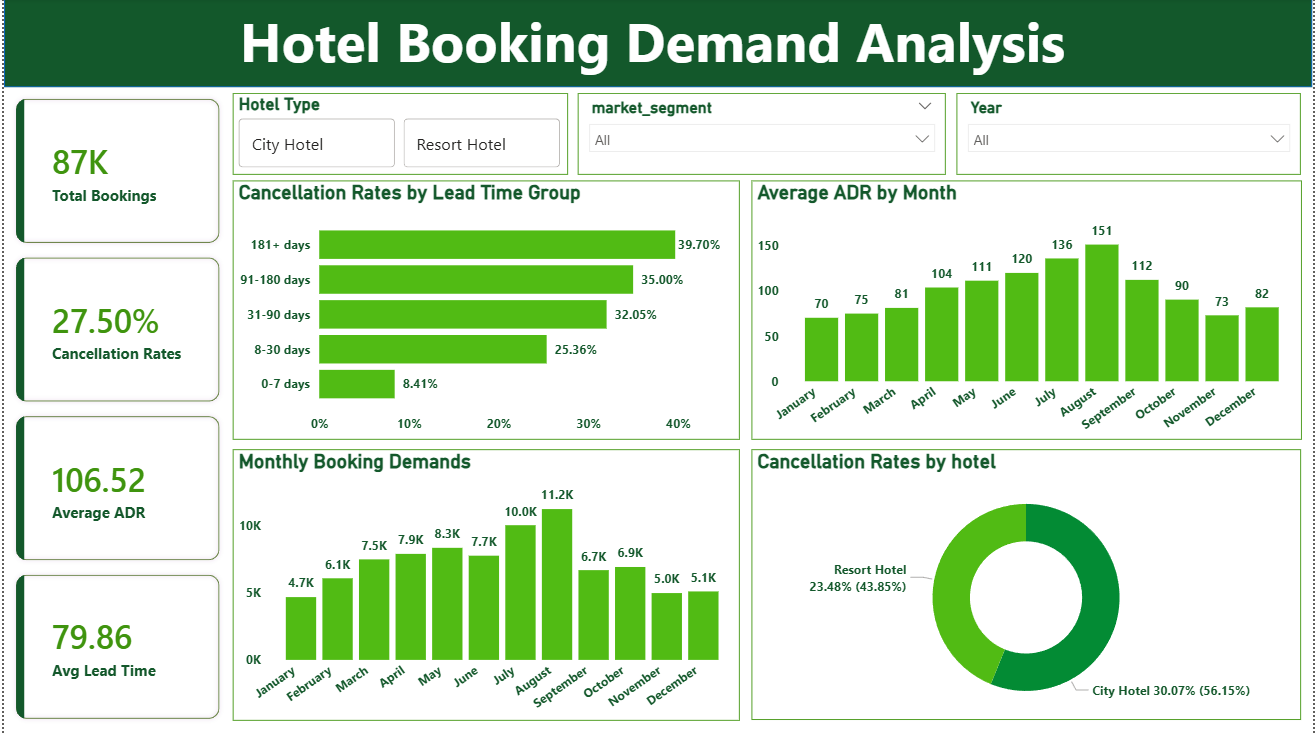

This screenshot's page, from the dashboard's own definition file:
{"tool":"powerbi","page":{"name":"Page 1","canvas":[1280,720],"ordinal":0},"visuals":[{"type":"cardVisual","fields":{"Data":["hotel_bookings_cleaned.Total Bookings","hotel_bookings_cleaned.Cancellation Rates","hotel_bookings_cleaned.Average ADR","hotel_bookings_cleaned.Average Lead Time"]},"box":[0,87.4,223.8,633],"z":0},{"type":"clusteredColumnChart","title":"Monthly Booking Demands","fields":{"Category":["hotel_bookings_cleaned.arrival_date.Variation.Date Hierarchy.Month"],"Y":["hotel_bookings_cleaned.Total Bookings"]},"box":[223.6,441.5,496.3,265.5],"z":1000},{"type":"shape","box":[0,0,1279.7,87.4],"z":2000},{"type":"barChart","fields":{"Category":["hotel_bookings_cleaned.Lead Time Group"],"Y":["hotel_bookings_cleaned.Cancellation Rates"]},"box":[223.6,178.9,496.3,253.9],"z":3000},{"type":"clusteredColumnChart","fields":{"Category":["hotel_bookings_cleaned.arrival_date.Variation.Date Hierarchy.Month"],"Y":["hotel_bookings_cleaned.Average ADR"]},"box":[730.7,179,538.2,253.8],"z":4000},{"type":"donutChart","fields":{"Category":["hotel_bookings_cleaned.hotel"],"Y":["hotel_bookings_cleaned.Cancellation Rates"]},"box":[731,441.4,537.9,265.1],"z":5000},{"type":"advancedSlicerVisual","title":"Hotel Type","fields":{"Values":["hotel_bookings_cleaned.hotel"]},"box":[223.8,93.5,328,79.7],"z":6000},{"type":"slicer","fields":{"Values":["hotel_bookings_cleaned.market_segment"]},"box":[560.9,93.5,360.2,79.7],"z":7000},{"type":"slicer","fields":{"Values":["hotel_bookings_cleaned.arrival_date.Variation.Date Hierarchy.Year"]},"box":[931.8,93.5,337.2,79.7],"z":8000},{"type":"textbox","box":[0,0,1269,87.4],"z":9000}]}

Visuals, with their boxes in screenshot pixels (x1, y1, x2, y2), scaled from the page's 1280x720 canvas onto the 1315x733 screenshot:
cardVisual - hotel_bookings_cleaned.Total Bookings x hotel_bookings_cleaned.Cancellation Rates: 0 89 230 732
"Monthly Booking Demands" clusteredColumnChart: 230 449 740 720
shape: 0 0 1314 89
barChart - hotel_bookings_cleaned.Lead Time Group x hotel_bookings_cleaned.Cancellation Rates: 230 182 740 441
clusteredColumnChart - hotel_bookings_cleaned.arrival_date.Variation.Date Hierarchy.Month x hotel_bookings_cleaned.Average ADR: 751 182 1304 441
donutChart - hotel_bookings_cleaned.hotel x hotel_bookings_cleaned.Cancellation Rates: 751 449 1304 719
"Hotel Type" advancedSlicerVisual: 230 95 567 176
slicer - hotel_bookings_cleaned.market_segment: 576 95 946 176
slicer - hotel_bookings_cleaned.arrival_date.Variation.Date Hierarchy.Year: 957 95 1304 176
textbox: 0 0 1304 89
